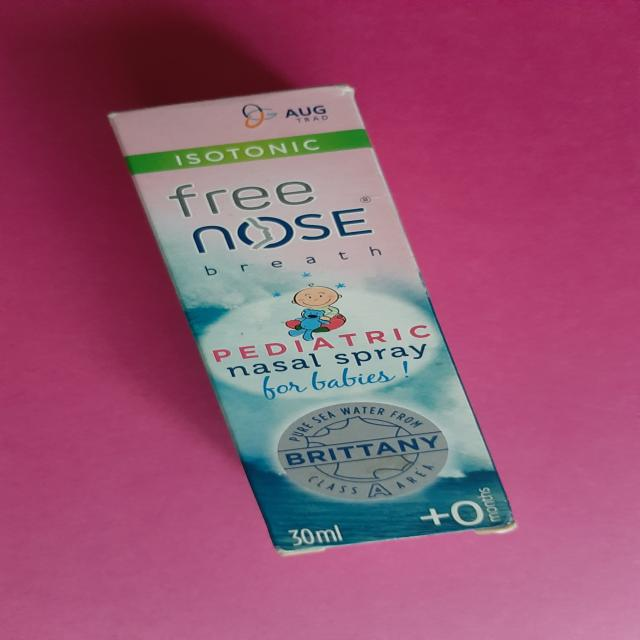Free Nose: (95, 79, 542, 562)
